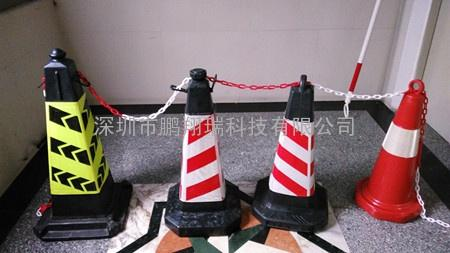cone_barrel: (31, 47, 131, 238), (247, 75, 332, 226), (165, 66, 237, 229), (354, 81, 434, 224)
